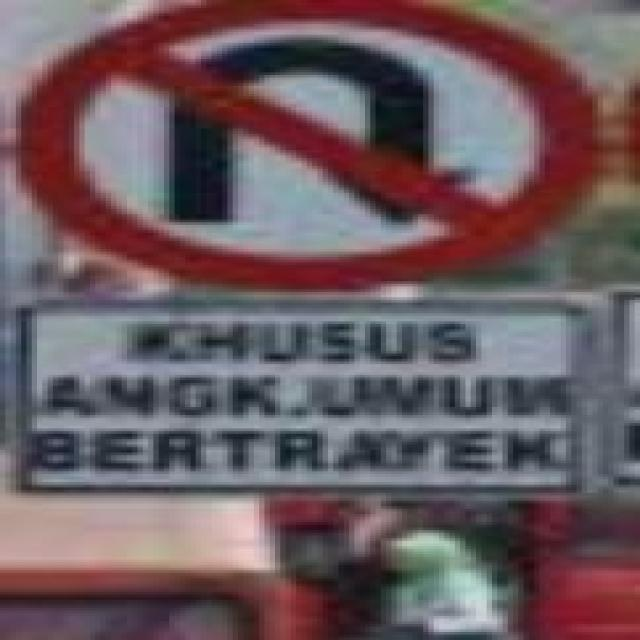traffic sign: (27, 5, 593, 292)
